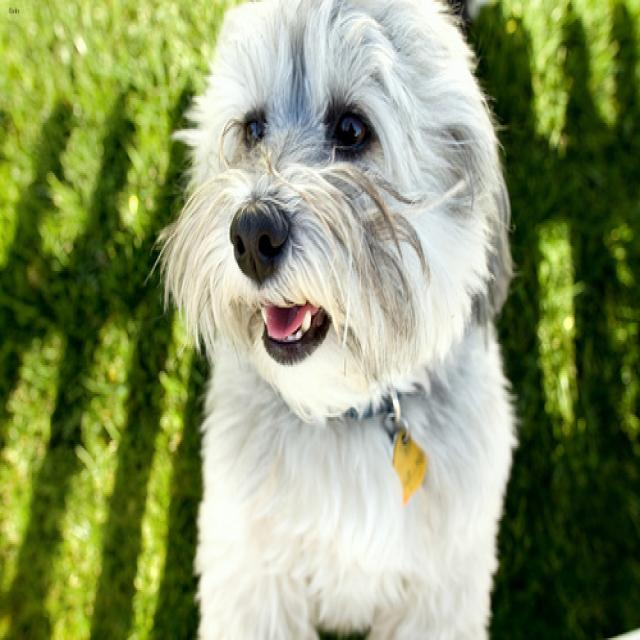dog-havanese: (136, 2, 532, 636)
